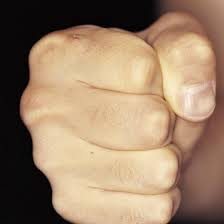fist: (30, 33, 196, 217)
